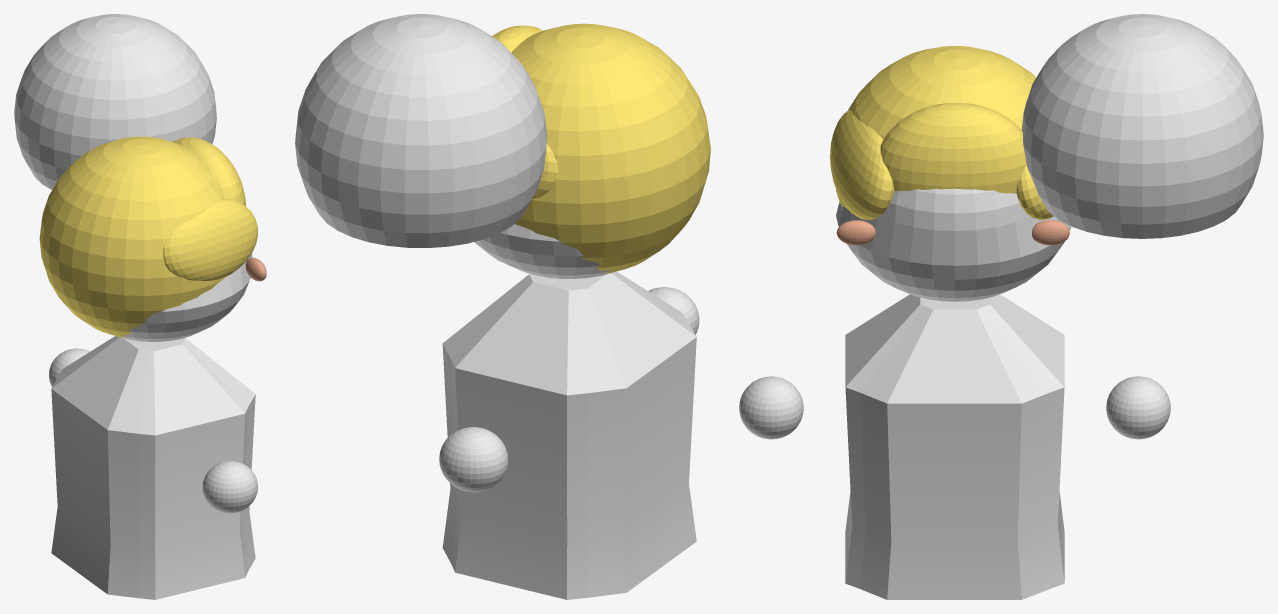
Rendered from Julian Robin.fbx.
3 renders of one model, left to right at view 1: azimuth 30°, elevation 25°; view 2: azimuth 150°, elevation 25°; view 3: azimuth 270°, elevation 25°, orthographic. The views are drawn at different scales.
Parts seen in each view (by area): view 1: Cube, Sphere.016, Sphere.008, Sphere.022, Sphere, Sphere.001, Sphere.021, Sphere.004; view 2: Cube, Sphere.008, Sphere.016, Sphere.001, Sphere, Sphere.021, Sphere.022; view 3: Cube, Sphere.008, Sphere, Sphere.021, Sphere.016, Sphere.001, Sphere.022, Sphere.004.
Part boxes in pixels (left/top/right/bottom): Cube: left=51, top=336, right=255, bottom=599; Sphere.016: left=39, top=136, right=224, bottom=337; Sphere.008: left=14, top=14, right=216, bottom=189; Sphere.022: left=162, top=198, right=257, bottom=280; Sphere: left=119, top=253, right=252, bottom=341; Sphere.001: left=49, top=348, right=257, bottom=513; Sphere.021: left=173, top=137, right=245, bottom=205; Sphere.004: left=245, top=257, right=266, bottom=281; Cube: left=442, top=271, right=696, bottom=599; Sphere.008: left=295, top=14, right=547, bottom=247; Sphere.016: left=511, top=23, right=710, bottom=273; Sphere.001: left=439, top=287, right=699, bottom=492; Sphere: left=474, top=224, right=613, bottom=278; Sphere.021: left=492, top=25, right=542, bottom=52; Sphere.022: left=532, top=144, right=557, bottom=198; Cube: left=845, top=294, right=1064, bottom=599; Sphere.008: left=1021, top=14, right=1263, bottom=238; Sphere: left=836, top=188, right=1070, bottom=301; Sphere.021: left=880, top=103, right=1026, bottom=193; Sphere.016: left=836, top=46, right=1036, bottom=208; Sphere.001: left=739, top=376, right=1170, bottom=439; Sphere.022: left=830, top=109, right=1053, bottom=219; Sphere.004: left=836, top=220, right=1069, bottom=245.
Size of the model in its own units: 260 by 505 by 432.
